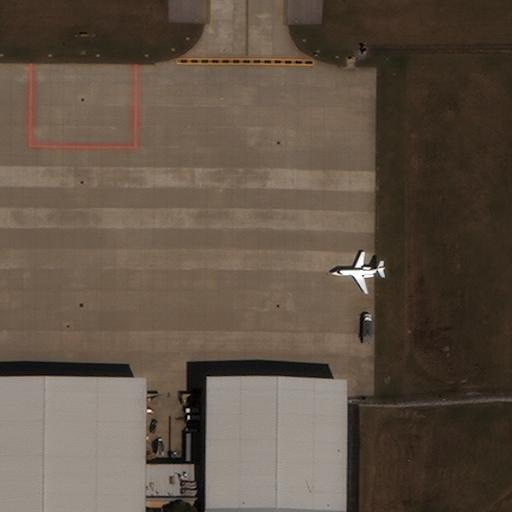Medium Civil Transport: (330, 251, 385, 294)
